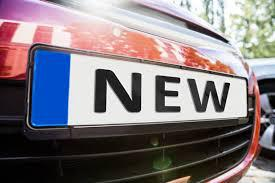E: (151, 75, 184, 114)
N: (90, 70, 145, 115)
W: (185, 78, 233, 114)
